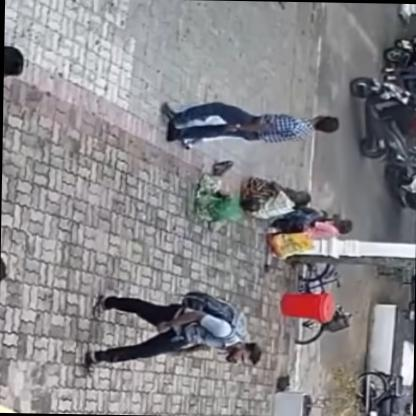Human Body: (76, 285, 266, 383), (158, 96, 343, 150), (239, 170, 314, 221), (286, 208, 354, 249)
